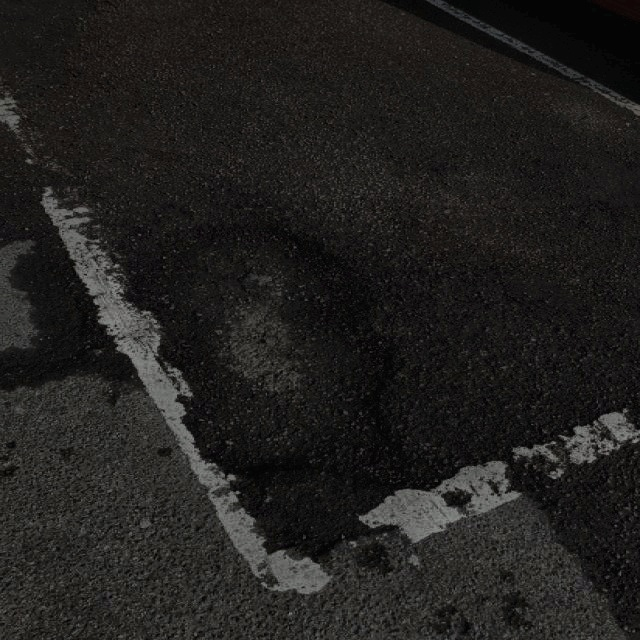Pothole: (128, 213, 444, 500)
